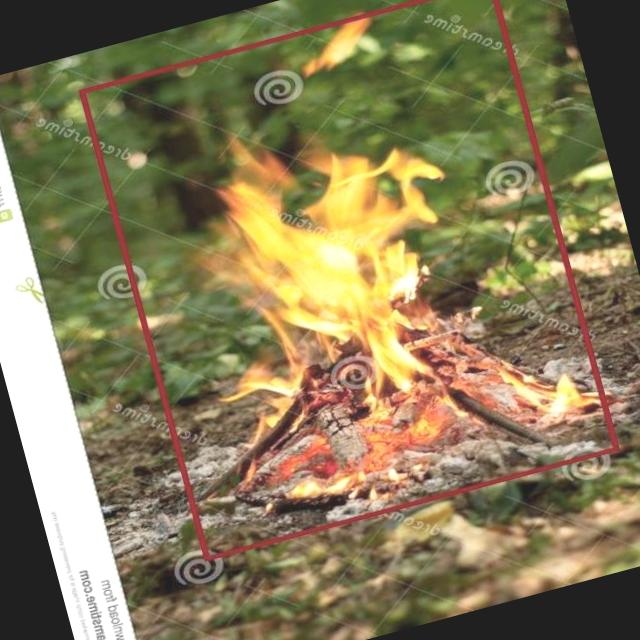fire: (79, 0, 620, 559)
